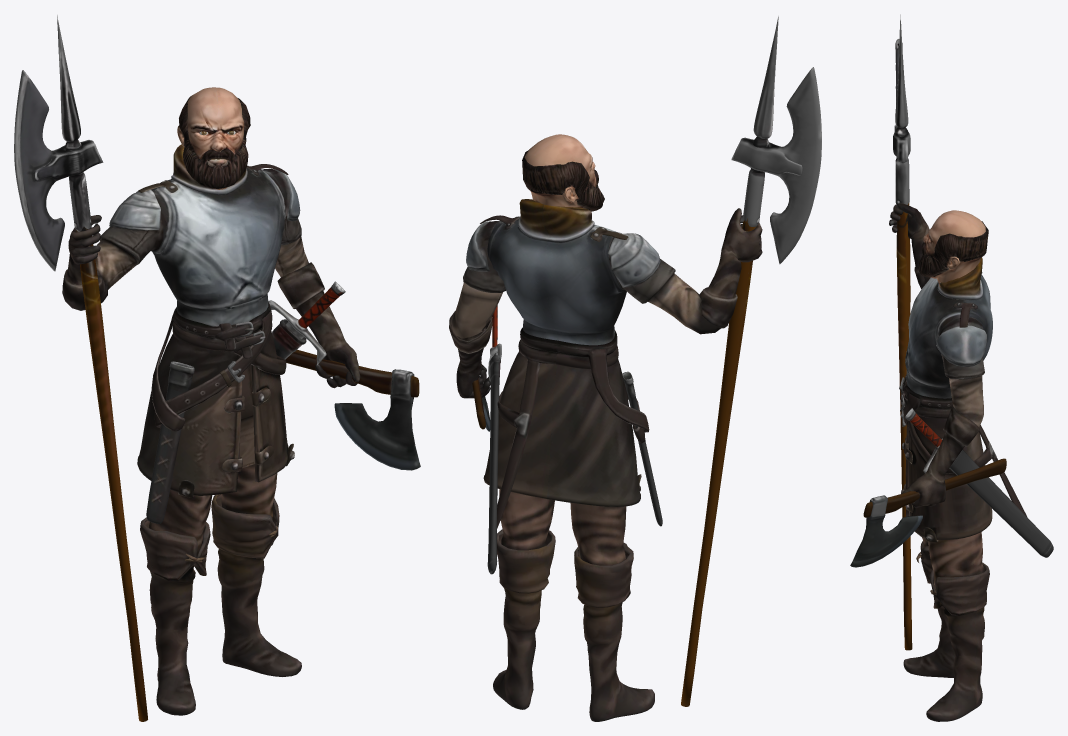
Rendered from brigand_guard.glb.
3 views of the same model, side by side, from view 1: azimuth 30°, elevation 25°; view 2: azimuth 150°, elevation 25°; view 3: azimuth 270°, elevation 25° (orthographic). The views are drawn at different scales.
Visible parts, largest first — view 1: Brigand_mesh02_020, Brigand_RoadKillOut_002, Brigand_RoadKillOut_000, Brigand_mesh02_007, Brigand_RoadKillOut_001; view 2: Brigand_mesh02_020, Brigand_RoadKillOut_002, Brigand_mesh02_007; view 3: Brigand_mesh02_020, Brigand_RoadKillOut_002, Brigand_RoadKillOut_000, Brigand_mesh02_007, Brigand_RoadKillOut_001.
Part boxes in pixels (x1,y1,x2,y2): Brigand_mesh02_020: (62,87,360,715); Brigand_RoadKillOut_002: (14,15,147,721); Brigand_RoadKillOut_000: (285,349,420,470); Brigand_mesh02_007: (179,96,250,188); Brigand_RoadKillOut_001: (268,281,345,364); Brigand_mesh02_020: (449,134,762,721); Brigand_RoadKillOut_002: (681,16,821,706); Brigand_mesh02_007: (522,150,604,211); Brigand_mesh02_020: (889,203,1053,721); Brigand_RoadKillOut_002: (893,14,912,650); Brigand_RoadKillOut_000: (850,458,1006,567); Brigand_mesh02_007: (918,221,988,277); Brigand_RoadKillOut_001: (905,408,942,473).
Bounding box in the file's own units: 1.27 × 2.32 × 0.7098.
Materials: 3 (3 with a texture image).
